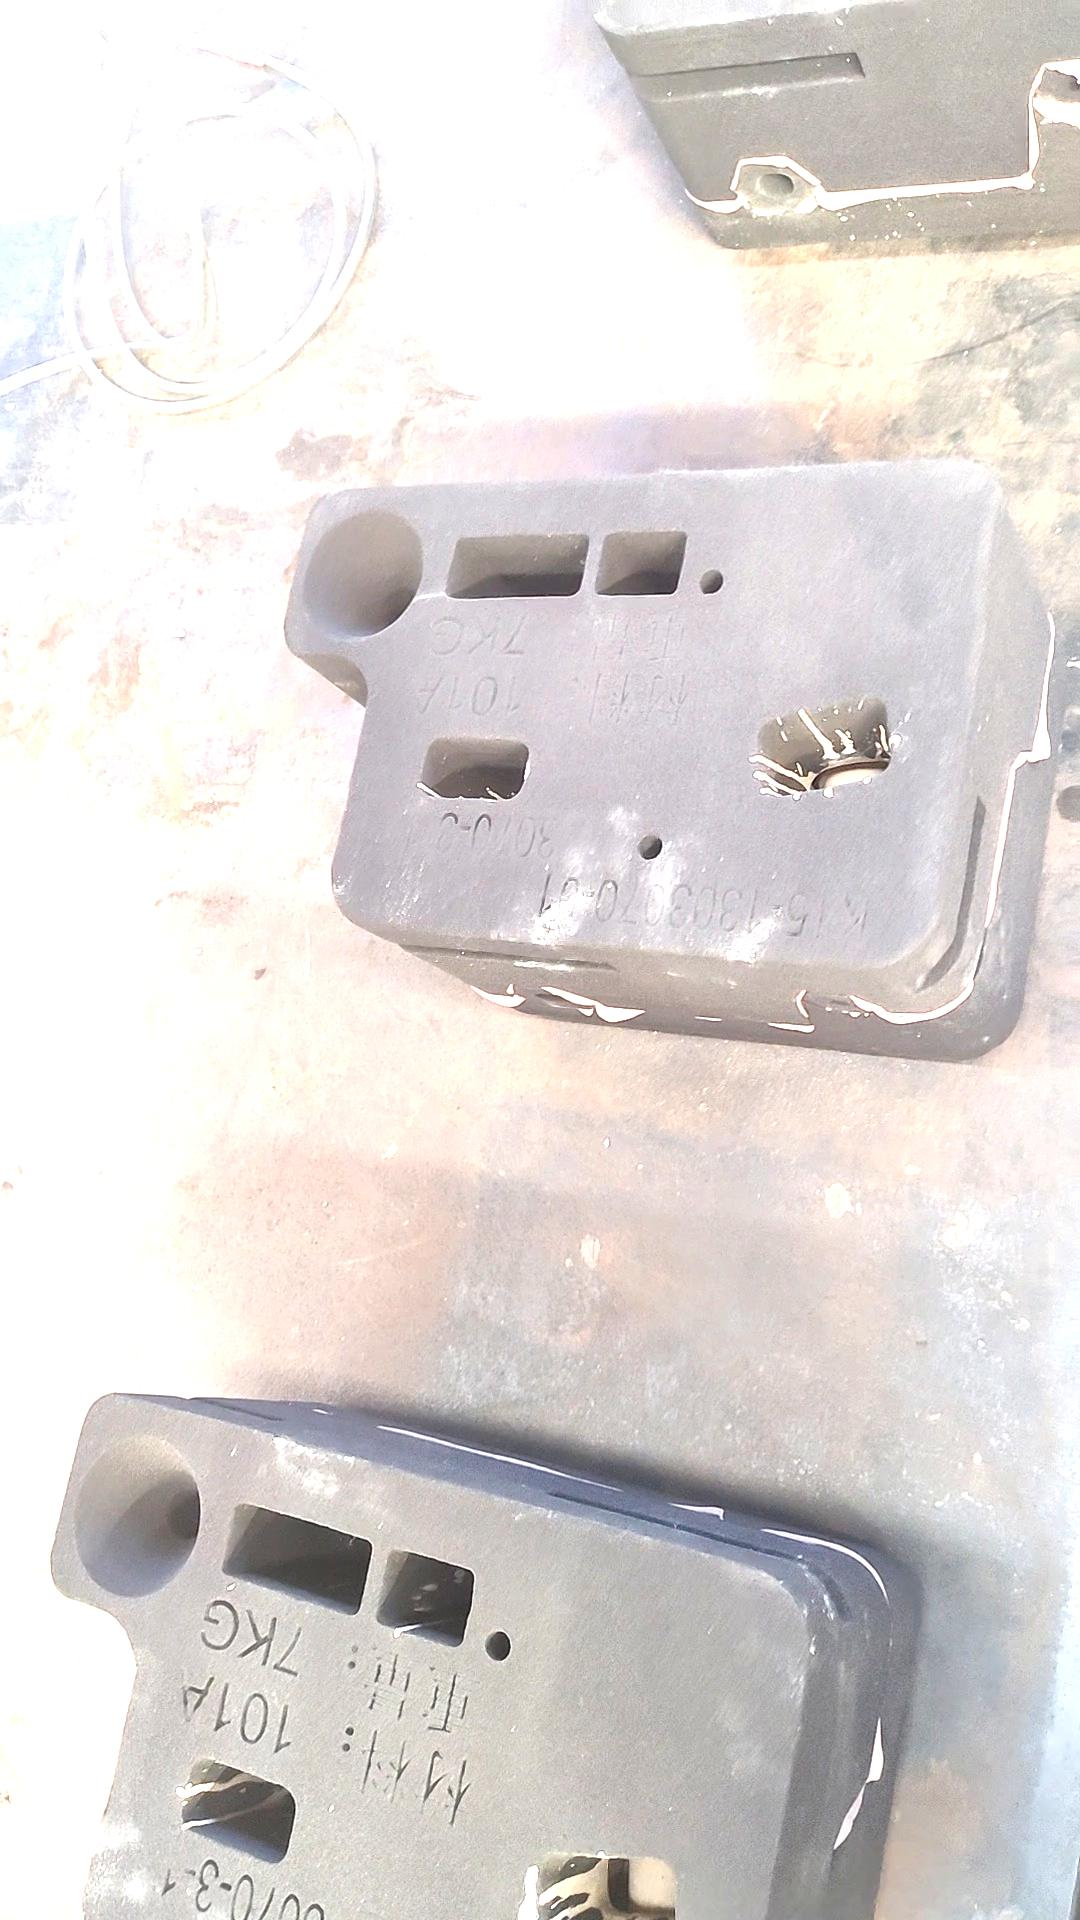pouring hole: (73, 1435, 200, 1598), (302, 512, 425, 641)
